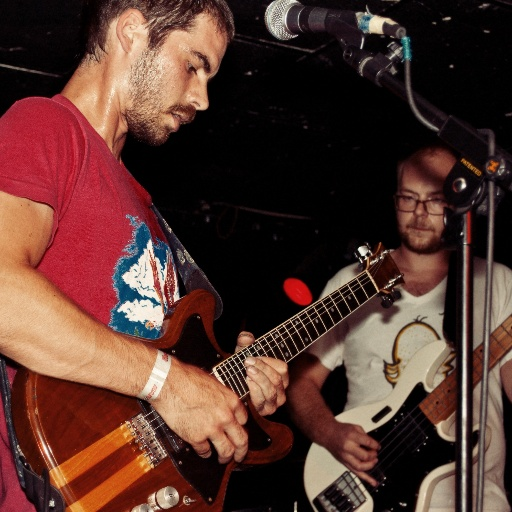hand: (139, 365, 256, 466), (233, 331, 289, 420), (327, 423, 384, 489)
